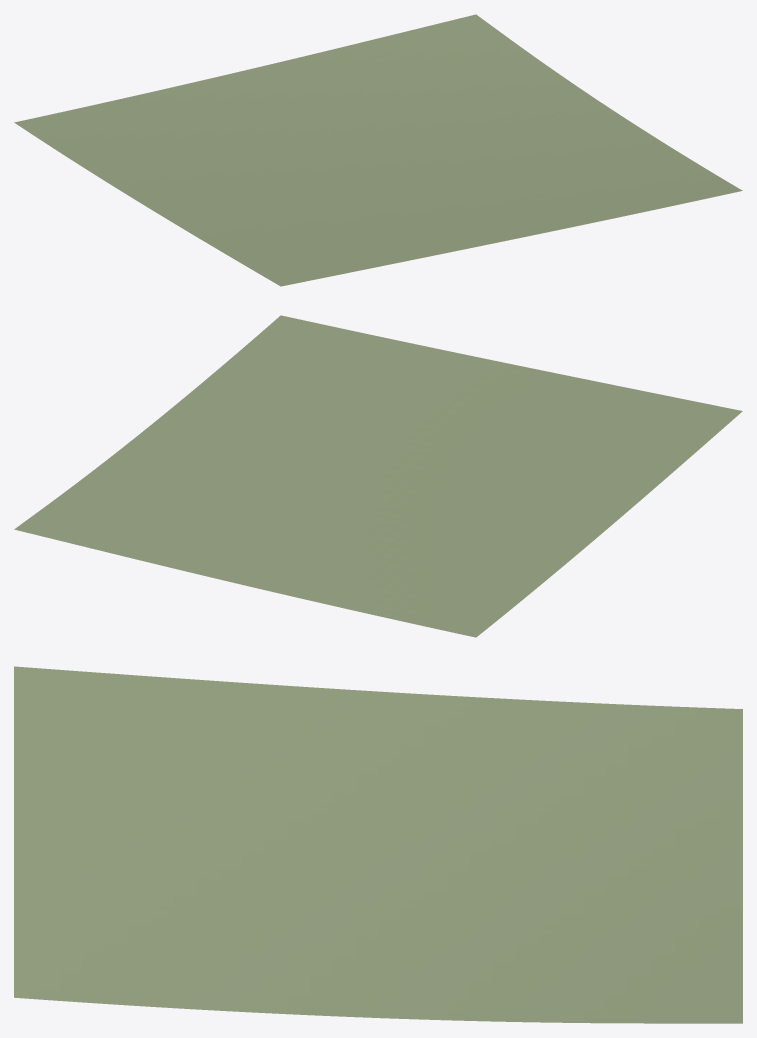
Rendered from desert-4-25.glb.
3 views of the same model, one above another, from view 1: azimuth 30°, elevation 25°; view 2: azimuth 150°, elevation 25°; view 3: azimuth 270°, elevation 25° (orthographic). The views are drawn at different scales.
Parts seen in each view (by area): view 1: desert-4-25; view 2: desert-4-25; view 3: desert-4-25.
Boxes of the visible parts, left/top/right/bottom form: desert-4-25: left=14, top=14, right=742, bottom=286; desert-4-25: left=14, top=315, right=742, bottom=637; desert-4-25: left=14, top=666, right=742, bottom=1023.
Bounding box in the file's own units: 512 × 38.1 × 512.
